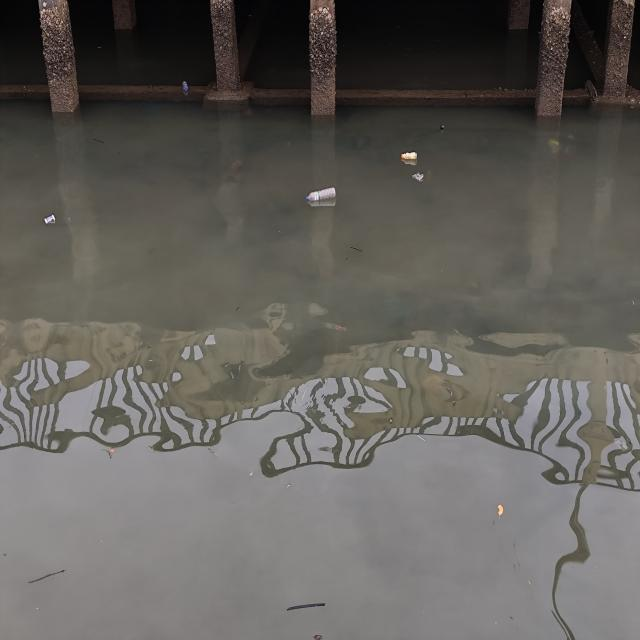Botol Plastik: (305, 182, 342, 212), (395, 148, 423, 169)
Bungkus Minuman: (41, 212, 62, 233)
